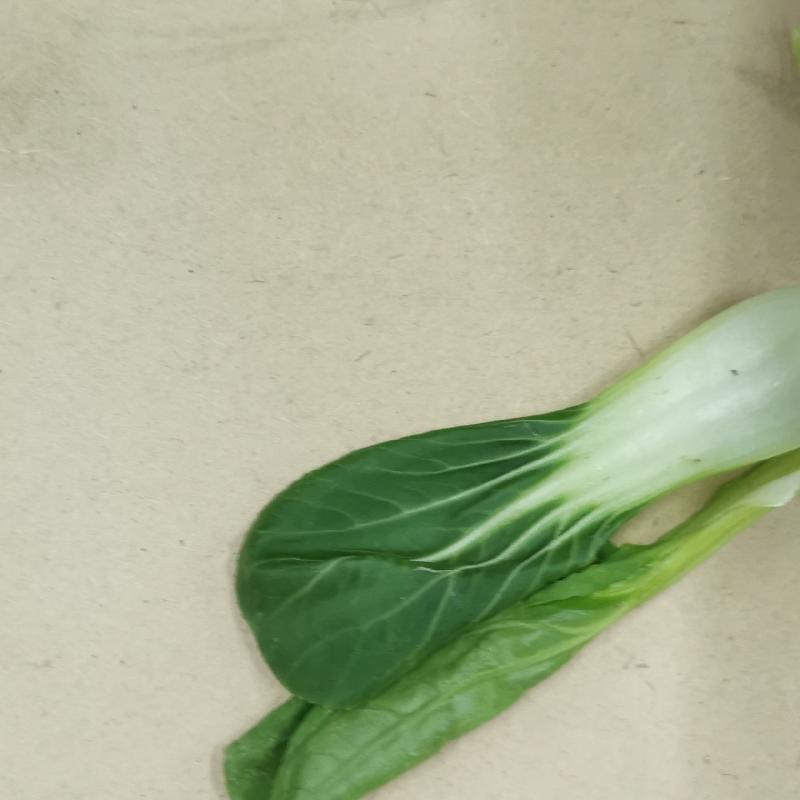green vegatable: (215, 285, 800, 799)
